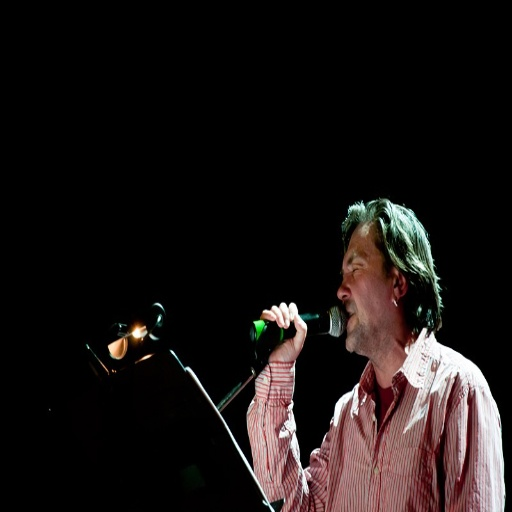hand: (259, 298, 309, 362)
